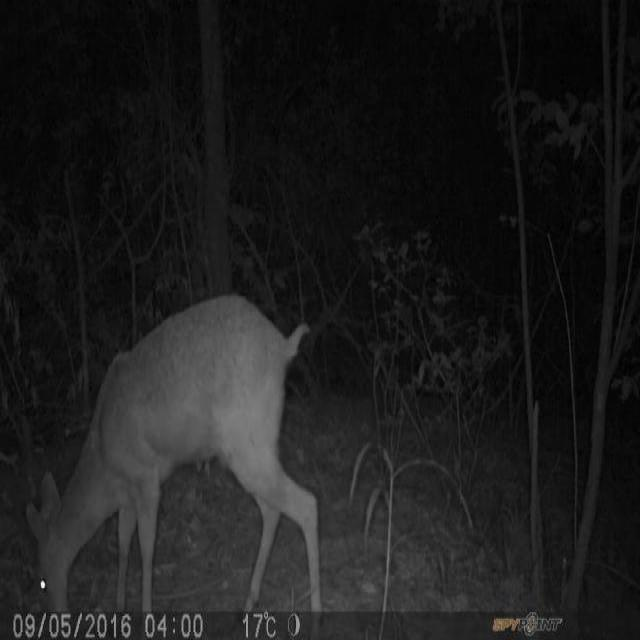deer: (27, 293, 326, 611)
